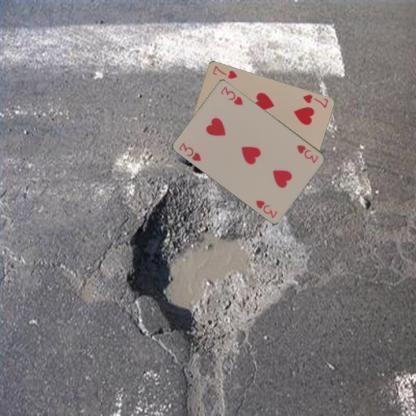3h: (176, 140, 204, 163), (294, 142, 320, 165)
7h: (300, 92, 329, 110)
